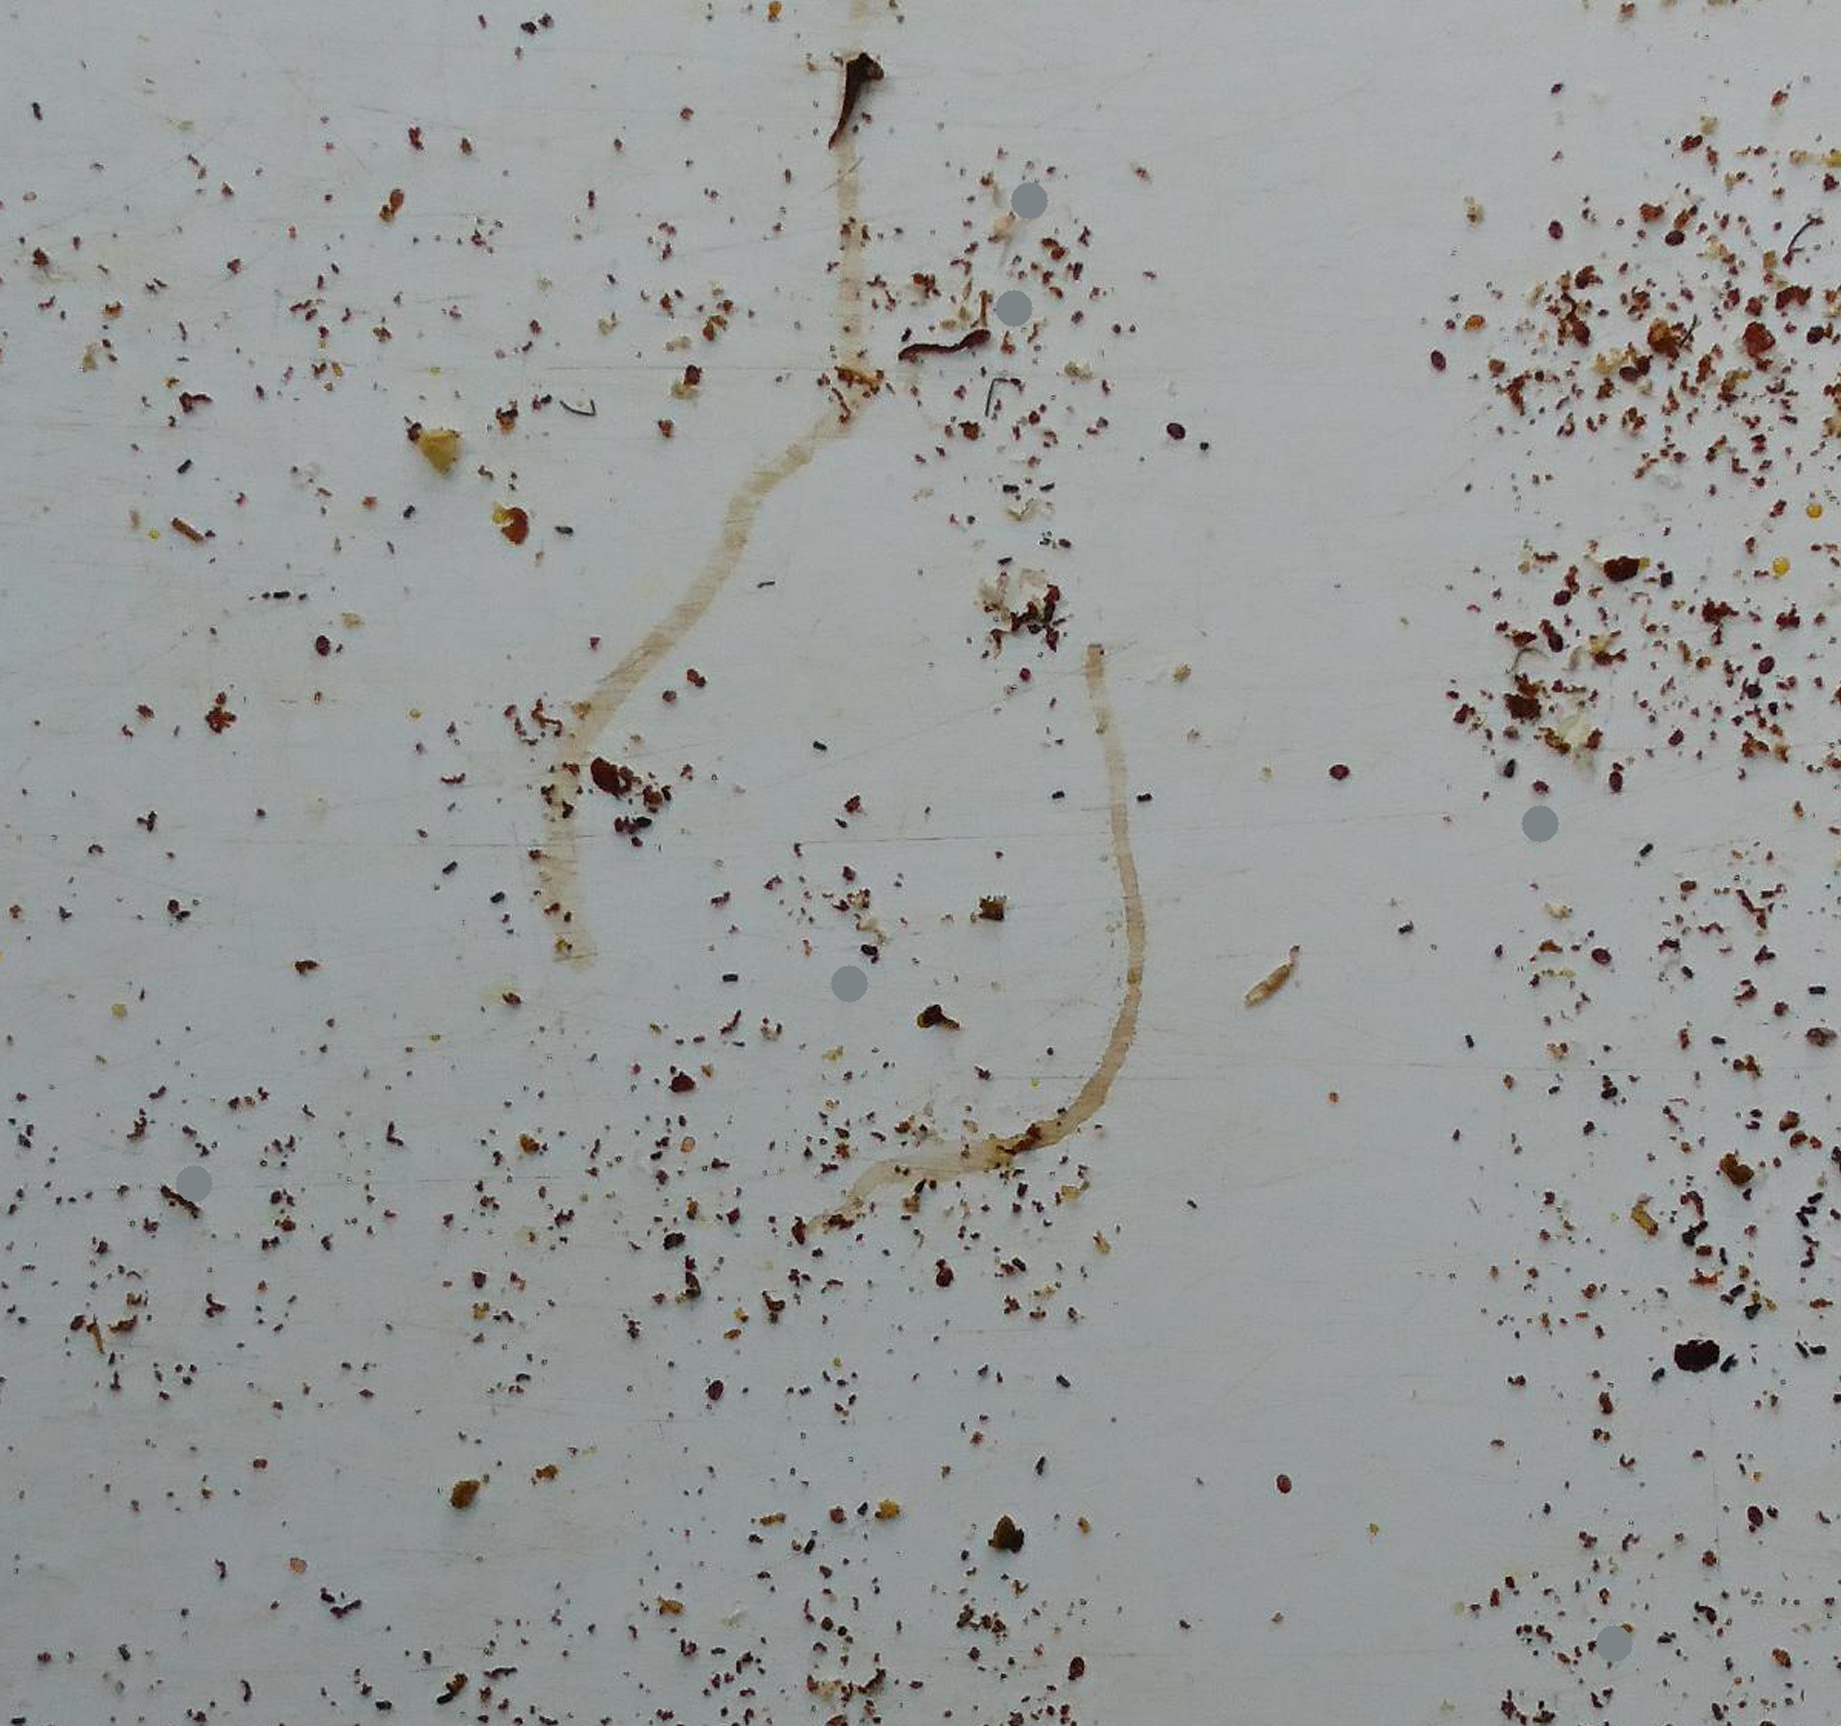Varroa: (307, 629, 337, 660), (1538, 629, 1564, 659), (1619, 363, 1645, 389), (1272, 1475, 1296, 1501), (1066, 1656, 1090, 1682), (1753, 657, 1778, 681), (1590, 946, 1614, 970), (1544, 219, 1567, 245), (1744, 1504, 1766, 1530), (1330, 756, 1353, 780), (1663, 229, 1687, 251), (931, 1257, 954, 1282), (699, 1380, 722, 1405), (1664, 723, 1689, 746), (1166, 422, 1189, 444), (1551, 587, 1573, 610), (1431, 349, 1452, 371), (1810, 326, 1831, 349), (1796, 320, 1818, 341), (1606, 769, 1625, 790)
